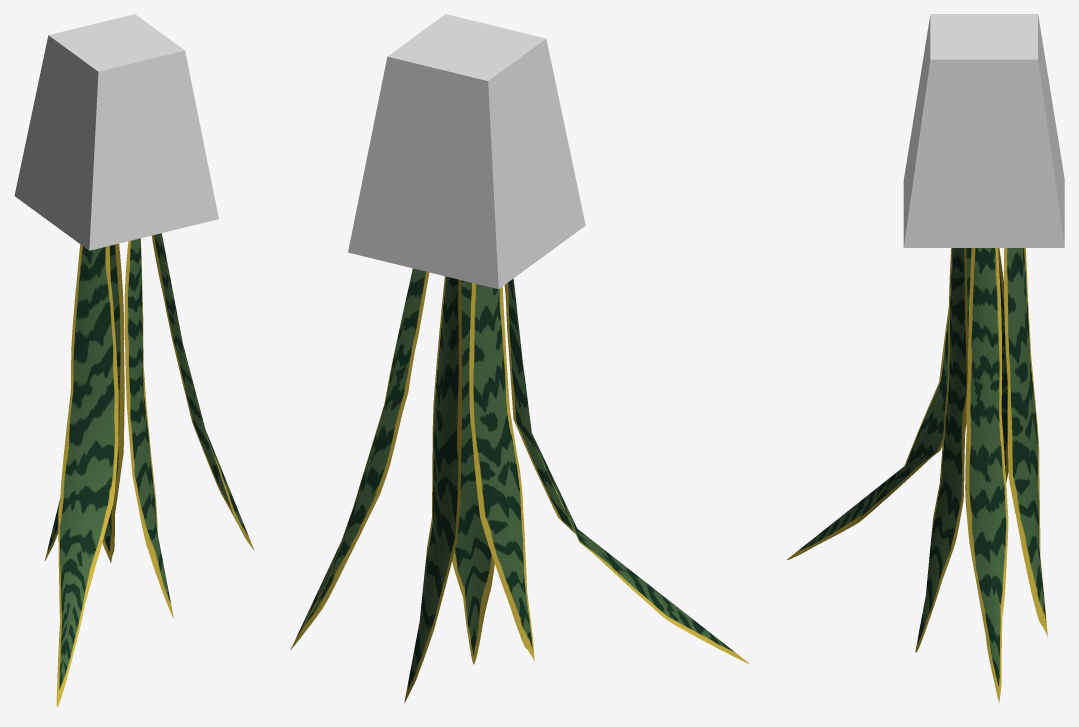
File: Espada.fbx
3 views of the same model, side by side, from view 1: azimuth 30°, elevation 25°; view 2: azimuth 150°, elevation 25°; view 3: azimuth 270°, elevation 25° (orthographic). The views are drawn at different scales.
Parts seen in each view (by area): view 1: Cube, Plane.003, Plane, Plane.002, Plane.001; view 2: Cube, Plane.005, Plane.001, Plane.002, Plane, Plane.003; view 3: Cube, Plane.002, Plane.001, Plane, Plane.003, Plane.005.
Part boxes in pixels (x1,y1,x2,y2): Cube: [14, 14, 218, 250]; Plane.003: [56, 244, 118, 706]; Plane: [124, 238, 173, 618]; Plane.002: [151, 233, 254, 550]; Plane.001: [102, 243, 124, 562]; Cube: [348, 14, 585, 289]; Plane.005: [469, 283, 534, 661]; Plane.001: [404, 276, 462, 702]; Plane.002: [290, 268, 429, 650]; Plane: [452, 280, 494, 664]; Plane.003: [504, 278, 748, 663]; Cube: [903, 14, 1064, 247]; Plane.002: [965, 248, 1008, 702]; Plane.001: [1004, 248, 1047, 637]; Plane: [915, 248, 967, 652]; Plane.003: [787, 248, 971, 559]; Plane.005: [998, 248, 1008, 481].
Bounding box in the file's own units: 167 × 302 × 125.
